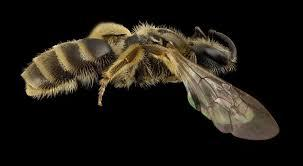Lasioglossum: (24, 19, 288, 144)
